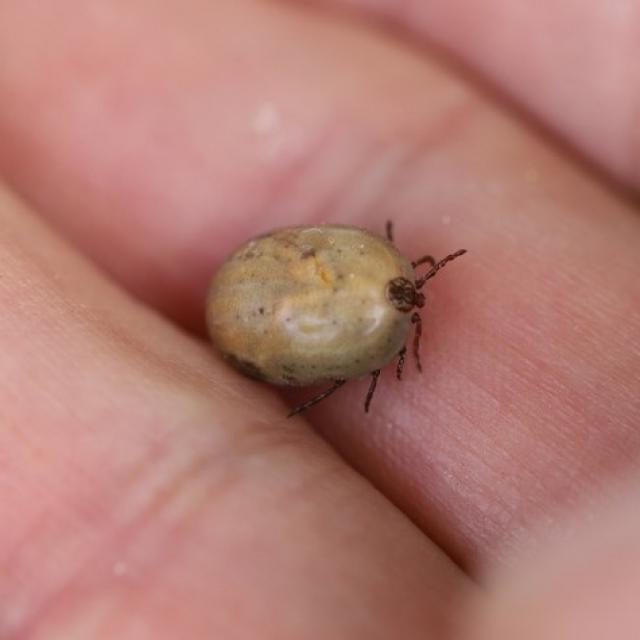Dermacentor Reticulatus-F-Fed: (205, 218, 468, 417)
